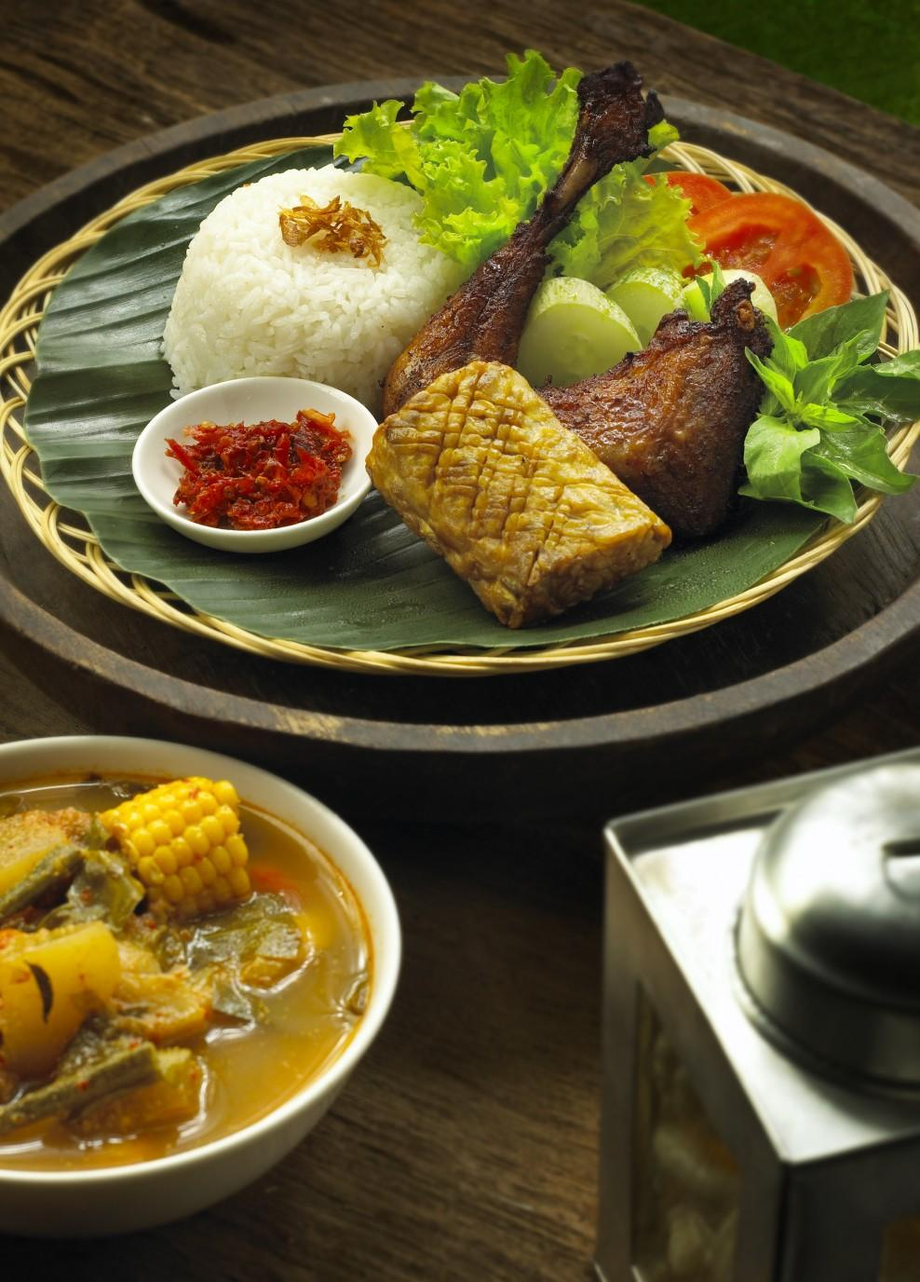buah_sayur_lainnya: (768, 340, 857, 480), (413, 112, 538, 204), (568, 221, 657, 339), (199, 424, 312, 504)
buah_sayur_vitA: (0, 786, 260, 1114), (717, 210, 796, 269)
daging: (615, 390, 706, 467)
kacang_legume: (450, 415, 562, 553)
makanan_berpati: (242, 186, 383, 369)
